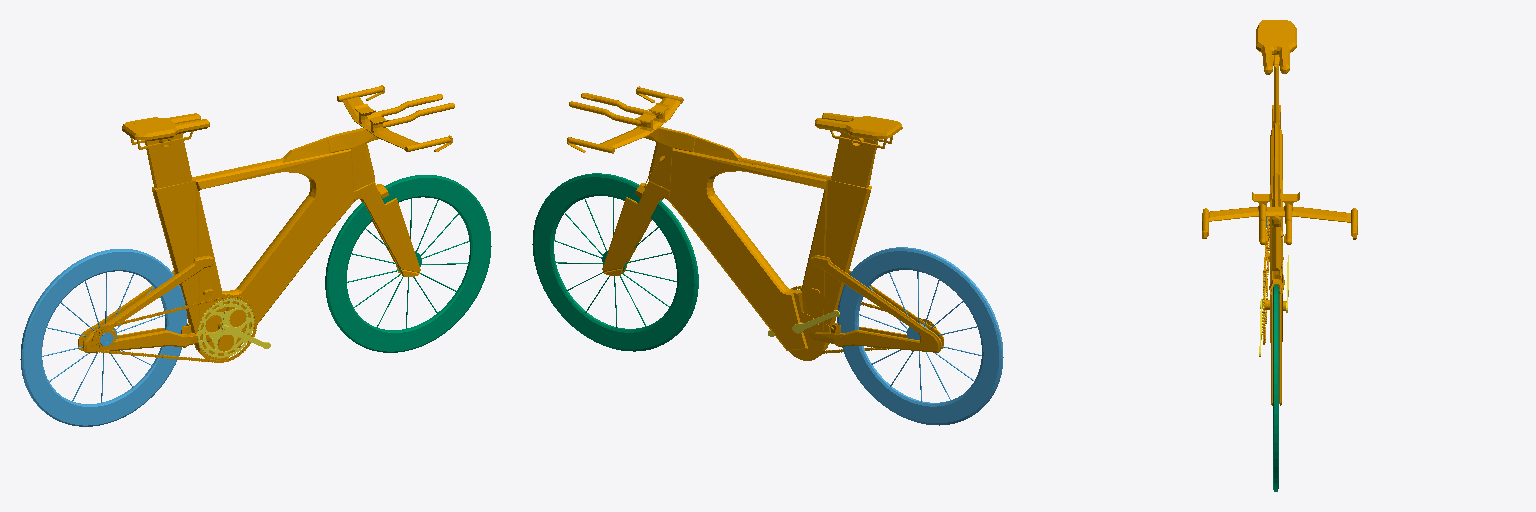
robot.urdf — predicted_bike:
<?xml version="1.0"?>
<robot name="predicted_bike">
  <link name="base_link">
    <visual>
      <geometry>
        <mesh filename="meshes/part_01.stl"/>
      </geometry>
    </visual>
    <visual>
      <geometry>
        <mesh filename="meshes/part_02.stl"/>
      </geometry>
    </visual>
    <visual>
      <geometry>
        <mesh filename="meshes/part_05.stl"/>
      </geometry>
    </visual>
    <visual>
      <geometry>
        <mesh filename="meshes/part_06.stl"/>
      </geometry>
    </visual>
    <visual>
      <geometry>
        <mesh filename="meshes/part_07.stl"/>
      </geometry>
    </visual>
    <visual>
      <geometry>
        <mesh filename="meshes/part_08.stl"/>
      </geometry>
    </visual>
  </link>
  <link name="link_manualv2_1778255446442_J0">
    <visual>
      <origin xyz="0.3244 0.0132 0.1177" rpy="0 0 0"/>
      <geometry>
        <mesh filename="meshes/part_04.stl"/>
      </geometry>
    </visual>
  </link>
  <joint name="joint_manualv2_1778255446442_J0" type="continuous">
    <parent link="base_link"/>
    <child link="link_manualv2_1778255446442_J0"/>
    <origin xyz="-0.3244 -0.0132 -0.1177" rpy="0 0 0"/>
    <axis xyz="0.0000 -1.0000 0.0000"/>
  </joint>
  <link name="link_manualv2_1778255446442_J1">
    <visual>
      <origin xyz="-0.3244 0.0066 0.1185" rpy="0 0 0"/>
      <geometry>
        <mesh filename="meshes/part_00.stl"/>
      </geometry>
    </visual>
  </link>
  <joint name="joint_manualv2_1778255446442_J1" type="continuous">
    <parent link="base_link"/>
    <child link="link_manualv2_1778255446442_J1"/>
    <origin xyz="0.3244 -0.0066 -0.1185" rpy="0 0 0"/>
    <axis xyz="0.0000 -1.0000 0.0000"/>
  </joint>
  <link name="link_manualv2_1778255446442_J2">
    <visual>
      <origin xyz="0.0748 0.0097 0.1488" rpy="0 0 0"/>
      <geometry>
        <mesh filename="meshes/part_03.stl"/>
      </geometry>
    </visual>
  </link>
  <joint name="joint_manualv2_1778255446442_J2" type="continuous">
    <parent link="base_link"/>
    <child link="link_manualv2_1778255446442_J2"/>
    <origin xyz="-0.0748 -0.0097 -0.1488" rpy="0 0 0"/>
    <axis xyz="0.0000 -1.0000 0.0000"/>
  </joint>
</robot>

--- What the picture shows (computed from the rendered views, not written in the file) ---
The picture shows the robot from 3 angles, left to right: view 1: azimuth 30°, elevation 25°; view 2: azimuth 150°, elevation 25°; view 3: azimuth 270°, elevation 25°; orthographic projection.
Robot: predicted_bike — 4 links, 3 joints (3 continuous); root link base_link; default pose: every joint at zero.
Links seen in each view (by area): view 1: base_link, link_manualv2_1778255446442_J1, link_manualv2_1778255446442_J0, link_manualv2_1778255446442_J2; view 2: base_link, link_manualv2_1778255446442_J1, link_manualv2_1778255446442_J0; view 3: base_link, link_manualv2_1778255446442_J1.
Boxes of the visible links, box(x1,y1,x2,y2) form: base_link: box(78, 85, 454, 362); link_manualv2_1778255446442_J1: box(325, 175, 491, 352); link_manualv2_1778255446442_J0: box(20, 249, 186, 426); link_manualv2_1778255446442_J2: box(197, 298, 270, 358); base_link: box(567, 86, 943, 360); link_manualv2_1778255446442_J1: box(532, 173, 698, 351); link_manualv2_1778255446442_J0: box(837, 247, 1003, 425); base_link: box(1202, 20, 1357, 405); link_manualv2_1778255446442_J1: box(1273, 285, 1278, 491).
Size in the robot's own frame: 1 by 0.2646 by 0.5881 metres.
9 mesh visuals loaded from 9 distinct referenced files (9 binary STL).
